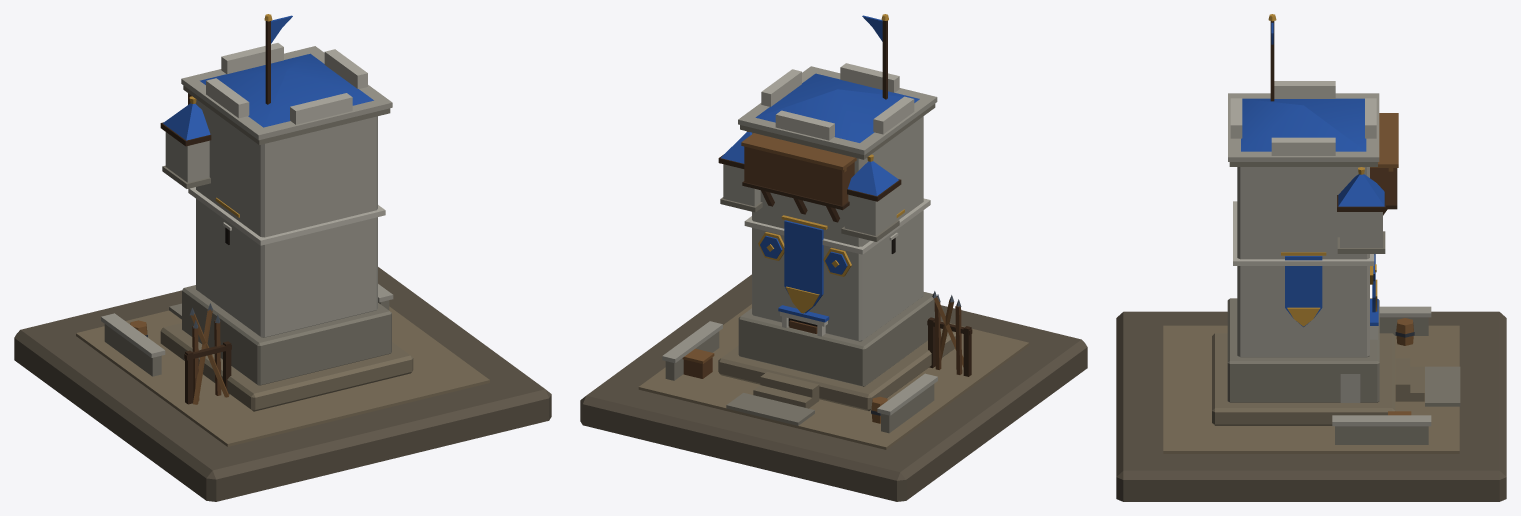
The picture shows the model from 3 angles, left to right: view 1: azimuth 30°, elevation 25°; view 2: azimuth 150°, elevation 25°; view 3: azimuth 270°, elevation 25°; orthographic projection. The views are drawn at different scales.
Parts seen in each view (by area): view 1: 箭塔_2星; view 2: 箭塔_2星; view 3: 箭塔_2星.
Boxes of the visible parts, x1=… form: 箭塔_2星: x1=14, y1=14, x2=551, y2=501; 箭塔_2星: x1=580, y1=14, x2=1087, y2=501; 箭塔_2星: x1=1116, y1=14, x2=1506, y2=501.
Bounding box in the file's own units: 1 × 1.1 × 1.
